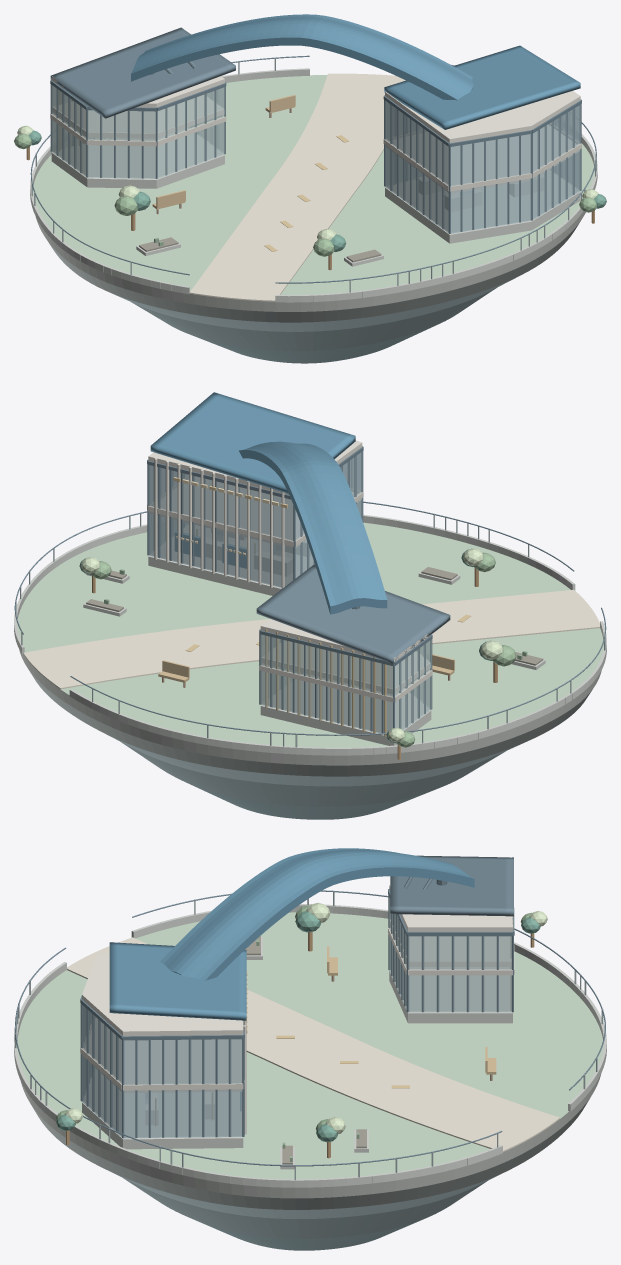
3 views of the same model, one above another, from view 1: azimuth 30°, elevation 25°; view 2: azimuth 150°, elevation 25°; view 3: azimuth 270°, elevation 25° (orthographic). The views are drawn at different scales.
Visible parts, largest first — view 1: ROLE_terrain_Components__grass, ROLE_paving_Components__paveLight, ROLE_building_Components__civicGlass, ROLE_building_Components__civicStone, ROLE_building_Components__stone2, ROLE_building_Components__civicSteel, ROLE_building_Components__civicSky, ROLE_building_Components__mistglass, ROLE_roof_Components__civicSky, ROLE_roof_Components__civicSteel, ROLE_terrain_Components__cliff2, ROLE_terrain_Components__stone2 (+11 smaller); view 2: ROLE_terrain_Components__grass, ROLE_paving_Components__paveLight, ROLE_building_Components__civicStone, ROLE_building_Components__civicSky, ROLE_building_Components__civicGlass, ROLE_building_Components__mistglass, ROLE_roof_Components__civicSky, ROLE_building_Components__civicSteel, ROLE_rails_Components__stone2, ROLE_roof_Components__civicSteel, ROLE_building_Components__stone2, ROLE_terrain_Components__stone2 (+12 smaller); view 3: ROLE_terrain_Components__grass, ROLE_paving_Components__paveLight, ROLE_building_Components__civicStone, ROLE_building_Components__civicGlass, ROLE_building_Components__civicSky, ROLE_building_Components__stone2, ROLE_building_Components__civicSteel, ROLE_building_Components__mistglass, ROLE_rails_Components__stone2, ROLE_roof_Components__civicSky, ROLE_terrain_Components__stone2, ROLE_terrain_Components__cliff3 (+9 smaller).
Boxes of the visible parts, x1=… form: ROLE_terrain_Components__grass: x1=33, y1=75, x2=594, y2=294; ROLE_paving_Components__paveLight: x1=189, y1=73, x2=405, y2=301; ROLE_building_Components__civicGlass: x1=384, y1=100, x2=580, y2=233; ROLE_building_Components__civicStone: x1=50, y1=76, x2=581, y2=211; ROLE_building_Components__stone2: x1=51, y1=128, x2=580, y2=243; ROLE_building_Components__civicSteel: x1=50, y1=61, x2=581, y2=233; ROLE_building_Components__civicSky: x1=131, y1=14, x2=473, y2=100; ROLE_building_Components__mistglass: x1=51, y1=85, x2=225, y2=178; ROLE_roof_Components__civicSky: x1=384, y1=45, x2=580, y2=129; ROLE_roof_Components__civicSteel: x1=50, y1=27, x2=235, y2=118; ROLE_terrain_Components__cliff2: x1=131, y1=288, x2=496, y2=351; ROLE_terrain_Components__stone2: x1=35, y1=211, x2=585, y2=311; ROLE_terrain_Components__grass: x1=17, y1=522, x2=603, y2=747; ROLE_paving_Components__paveLight: x1=23, y1=589, x2=599, y2=689; ROLE_building_Components__civicStone: x1=147, y1=440, x2=432, y2=702; ROLE_building_Components__civicSky: x1=174, y1=441, x2=387, y2=614; ROLE_building_Components__civicGlass: x1=148, y1=451, x2=362, y2=587; ROLE_building_Components__mistglass: x1=260, y1=634, x2=431, y2=733; ROLE_roof_Components__civicSky: x1=150, y1=392, x2=355, y2=493; ROLE_building_Components__civicSteel: x1=147, y1=446, x2=432, y2=733; ROLE_rails_Components__stone2: x1=14, y1=514, x2=606, y2=755; ROLE_roof_Components__civicSteel: x1=256, y1=564, x2=450, y2=663; ROLE_building_Components__stone2: x1=148, y1=525, x2=431, y2=745; ROLE_terrain_Components__stone2: x1=19, y1=649, x2=601, y2=765; ROLE_terrain_Components__grass: x1=17, y1=912, x2=603, y2=1179; ROLE_paving_Components__paveLight: x1=67, y1=937, x2=559, y2=1151; ROLE_building_Components__civicStone: x1=80, y1=857, x2=514, y2=1134; ROLE_building_Components__civicGlass: x1=81, y1=1004, x2=242, y2=1138; ROLE_building_Components__civicSky: x1=160, y1=848, x2=474, y2=1110; ROLE_building_Components__stone2: x1=82, y1=967, x2=512, y2=1149; ROLE_building_Components__civicSteel: x1=80, y1=876, x2=514, y2=1138; ROLE_building_Components__mistglass: x1=388, y1=896, x2=511, y2=1012; ROLE_rails_Components__stone2: x1=14, y1=904, x2=606, y2=1187; ROLE_roof_Components__civicSky: x1=109, y1=942, x2=246, y2=1020; ROLE_terrain_Components__stone2: x1=20, y1=1074, x2=600, y2=1198; ROLE_terrain_Components__cliff3: x1=31, y1=1098, x2=589, y2=1209.
Bounding box in the file's own units: 31.82 × 18.08 × 28.83.
